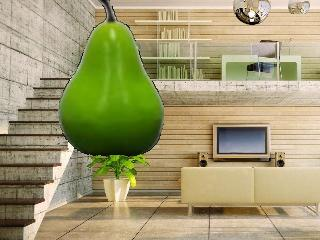pear: (55, 0, 165, 159)
